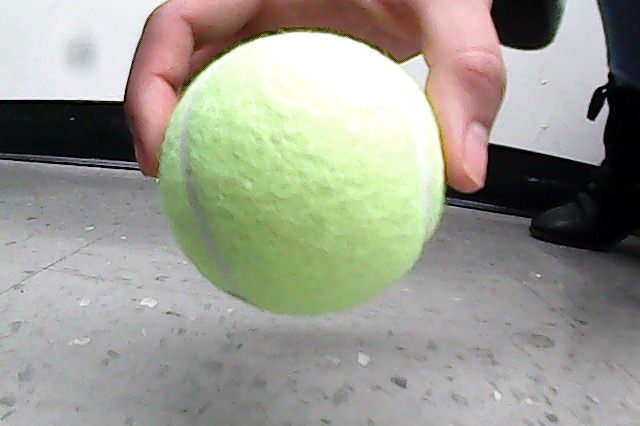ball: (156, 28, 448, 319)
